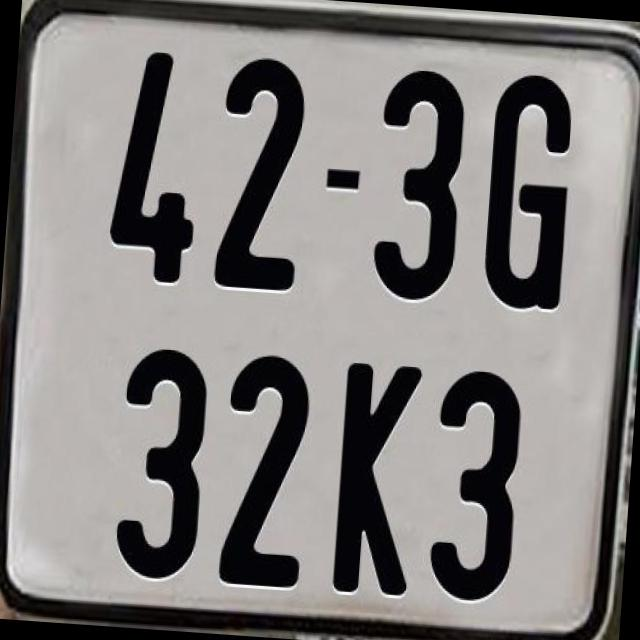2: (215, 352, 316, 588), (210, 54, 309, 294)
3: (114, 345, 218, 588), (367, 67, 471, 306), (426, 369, 526, 603)
4: (104, 46, 206, 288)
G: (478, 72, 572, 311)
K: (330, 362, 424, 600)
